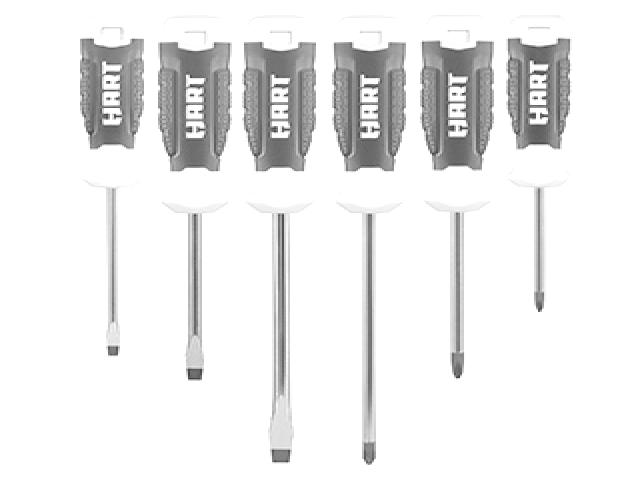Screwdriver: (244, 16, 316, 463), (334, 16, 405, 464), (159, 16, 230, 380), (421, 15, 492, 378), (80, 16, 144, 356), (508, 16, 570, 311)
